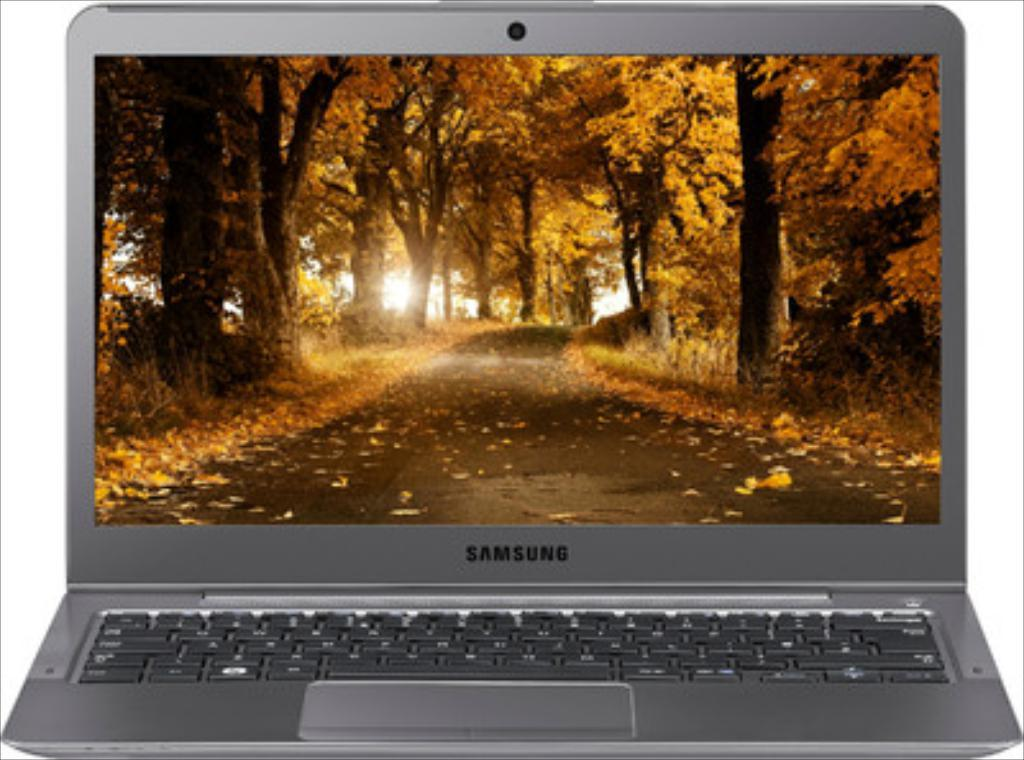Laptop: (3, 3, 1021, 757)
